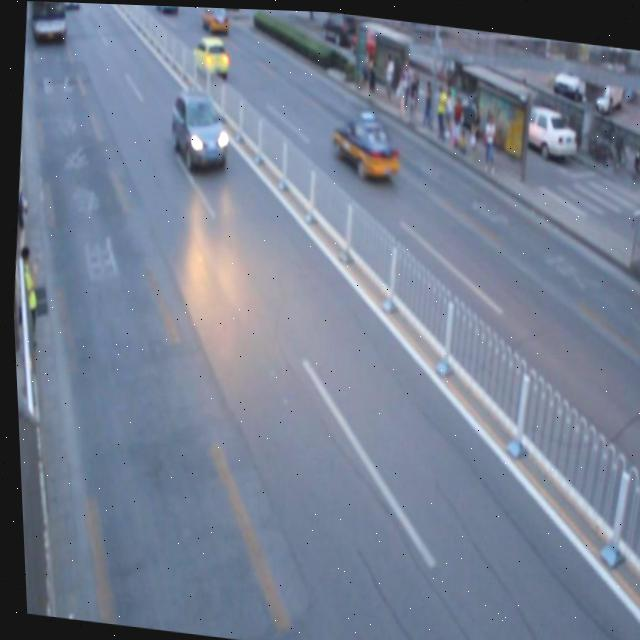car: (165, 85, 231, 172), (328, 106, 400, 181), (187, 30, 230, 82), (198, 6, 229, 34)
van: (24, 1, 71, 40)
